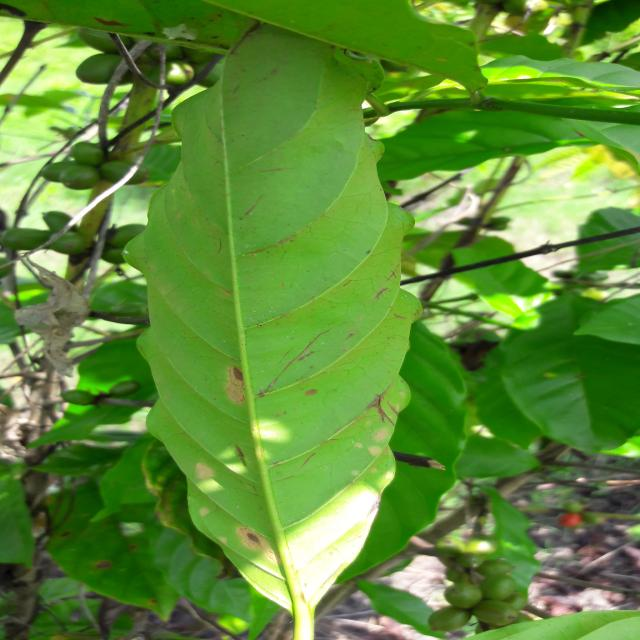Plaga-AranaRoja: (124, 33, 422, 640)
